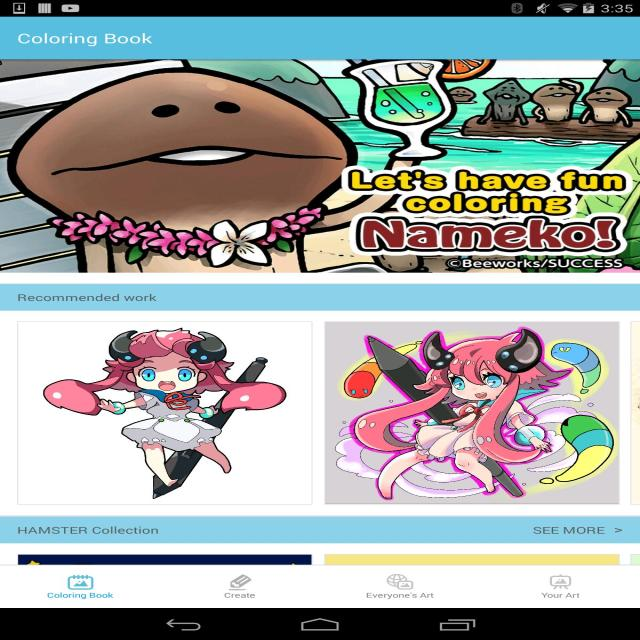button: (21, 566, 140, 606), (339, 566, 455, 606), (508, 566, 618, 608), (183, 566, 291, 608), (531, 521, 632, 539)
heading: (13, 28, 160, 51), (16, 524, 162, 538), (15, 292, 161, 304)
image: (2, 60, 640, 273), (325, 322, 622, 506), (16, 322, 311, 507), (377, 572, 421, 591), (60, 572, 100, 589), (540, 572, 576, 589), (224, 572, 256, 588)
text: (529, 522, 608, 538), (42, 589, 118, 602), (360, 590, 439, 600), (533, 589, 585, 600), (213, 589, 262, 600)
